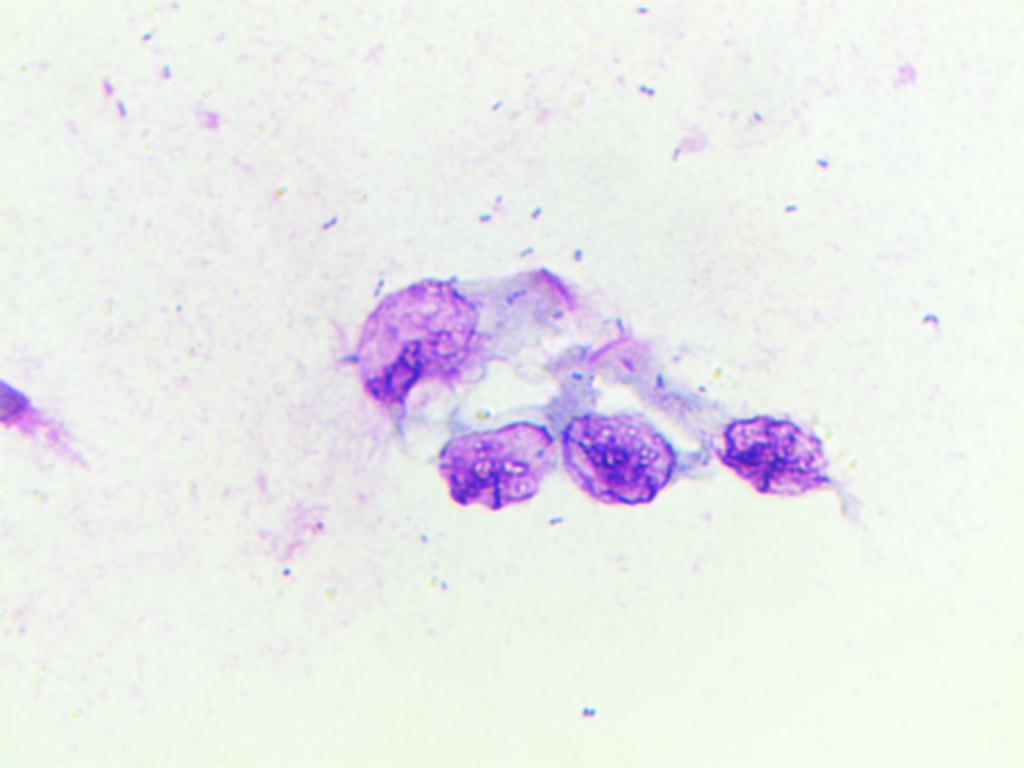ciliated: (598, 313, 840, 503), (343, 264, 595, 411), (432, 343, 601, 507), (543, 342, 672, 513)
